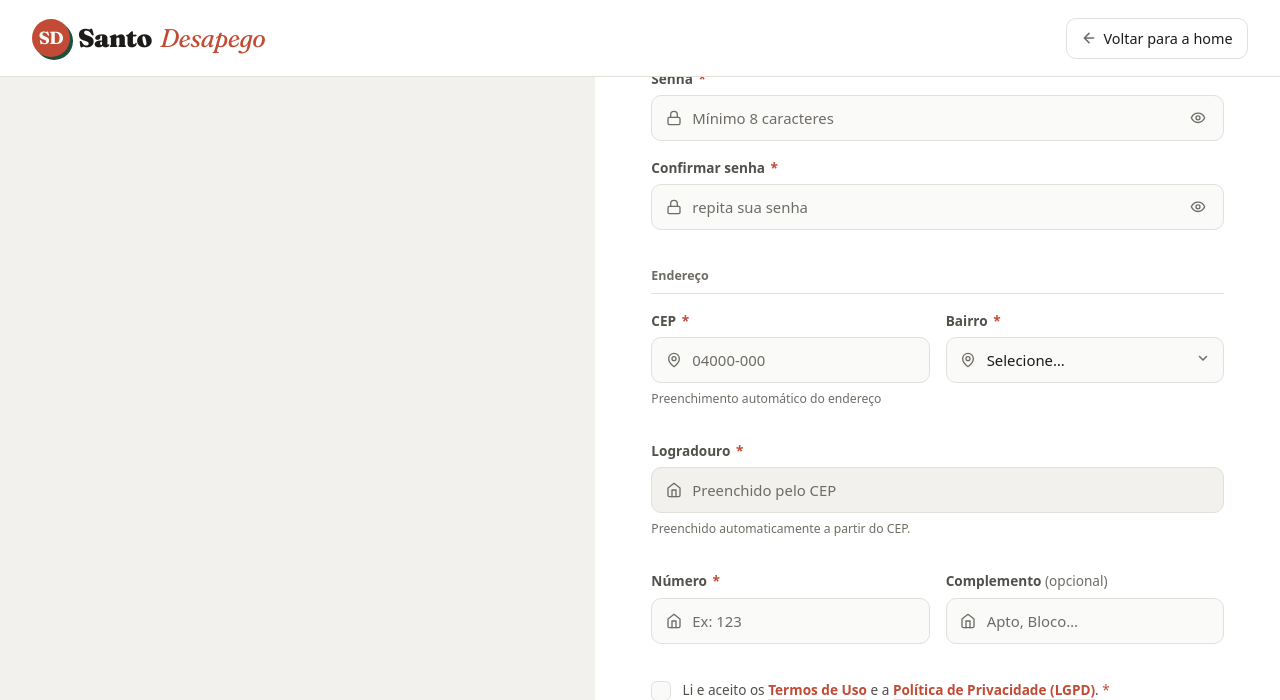
Test: RF01 - Gestão de Perfil Geográfico › CEP de fora da área avisa, marca "Outro bairro" e deixa concluir o cadastro
The width and height of the screenshot is (1280, 700).
(page scrolled)
Type "01310100" into the field with placeholder "04000-000" at (790, 360), box [651,337,930,383]
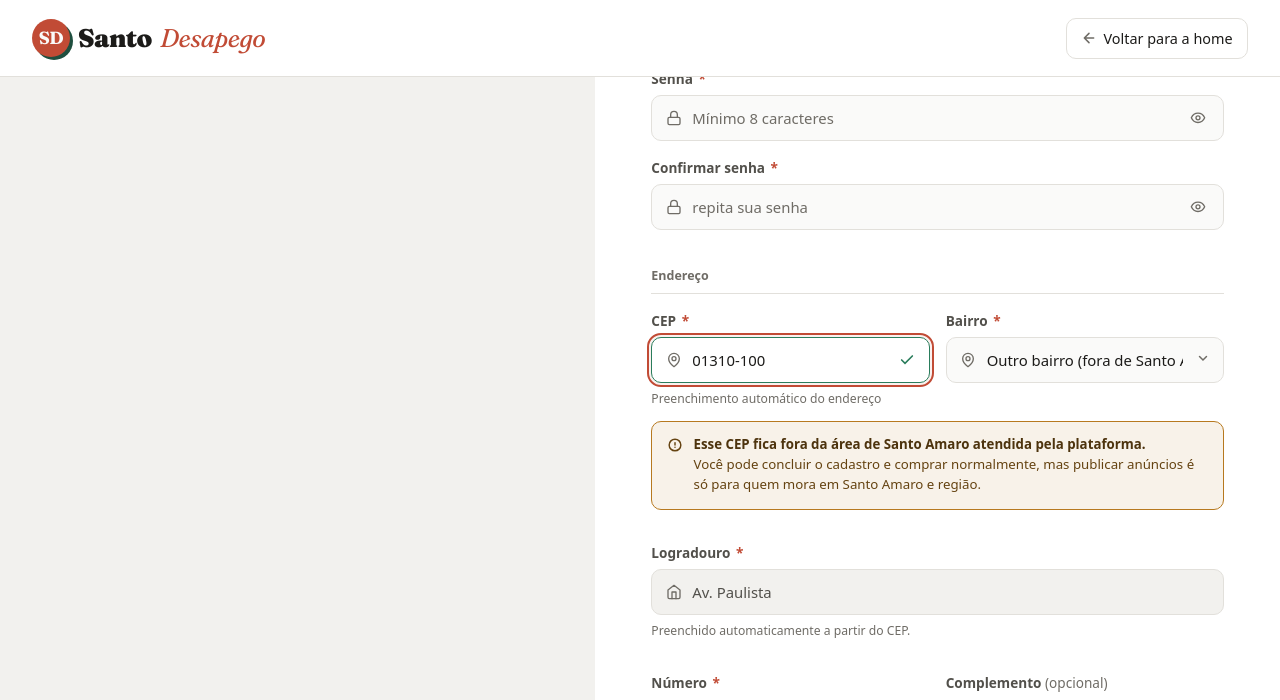
Now the text "fora da área de Santo Amaro" is shown, box [694,435,1146,453]
Now the text "Você pode concluir o cadastro e comprar normalmente" is shown, box [694,455,1194,493]
Now the dropdown shows "Outro bairro (fora de Santo Amaro)", box [946,337,1224,383]
